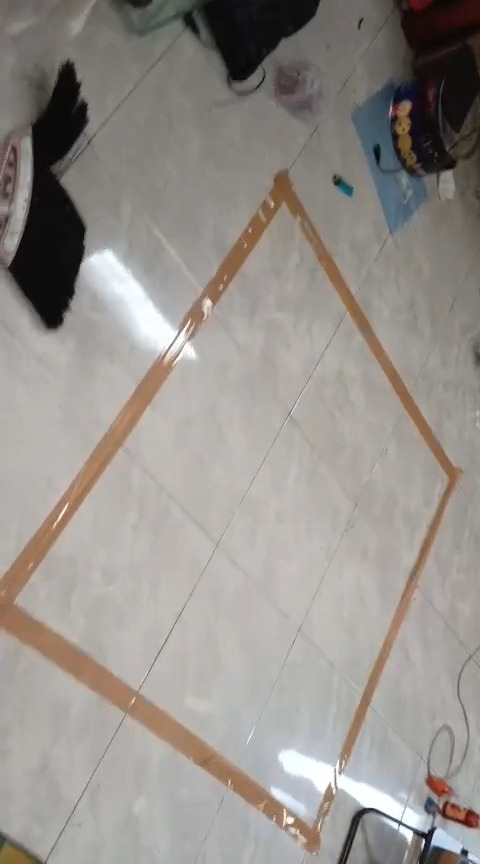floor marking: (0, 170, 461, 850)
